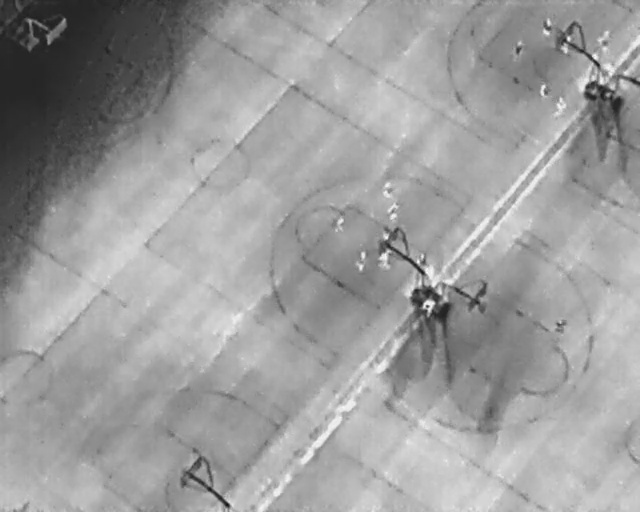Person: (418, 295, 437, 322), (594, 27, 612, 54), (353, 249, 370, 275), (376, 248, 392, 273), (556, 33, 573, 56), (551, 95, 568, 118), (511, 38, 525, 61), (333, 214, 348, 234), (386, 203, 400, 222), (541, 16, 554, 35), (382, 182, 393, 198), (418, 251, 427, 269), (538, 83, 549, 97)
